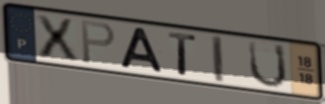A: (119, 26, 166, 75)
I: (210, 33, 227, 85)
P: (79, 19, 118, 66)
T: (167, 30, 199, 78)
U: (247, 39, 289, 89)
X: (33, 13, 81, 63)
